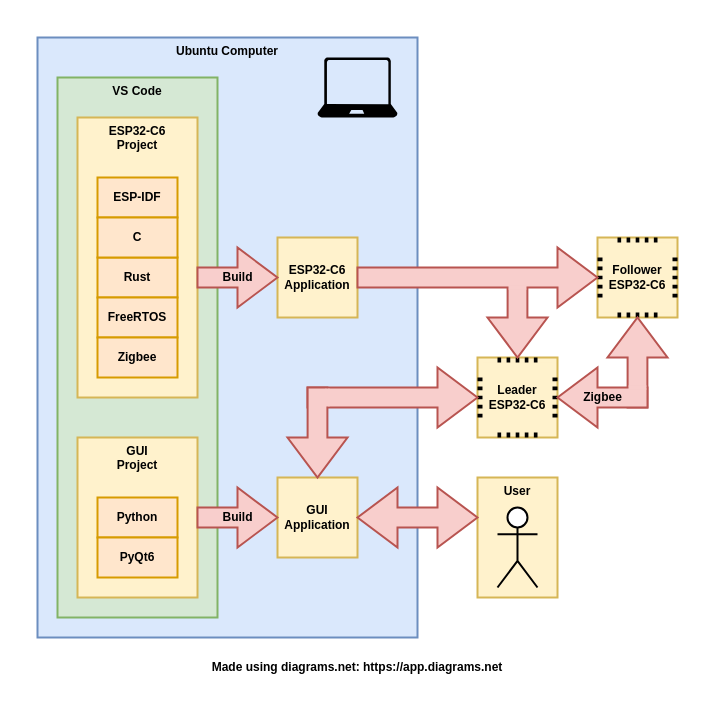
Some shapes in this 714 by 714 pixel diagram are drawn without their labels. The centre of each missing label's shape, as x and y in pixels:
Interaction: the point at 417,517
UART: the point at 392,397
Upload: the point at 477,277
